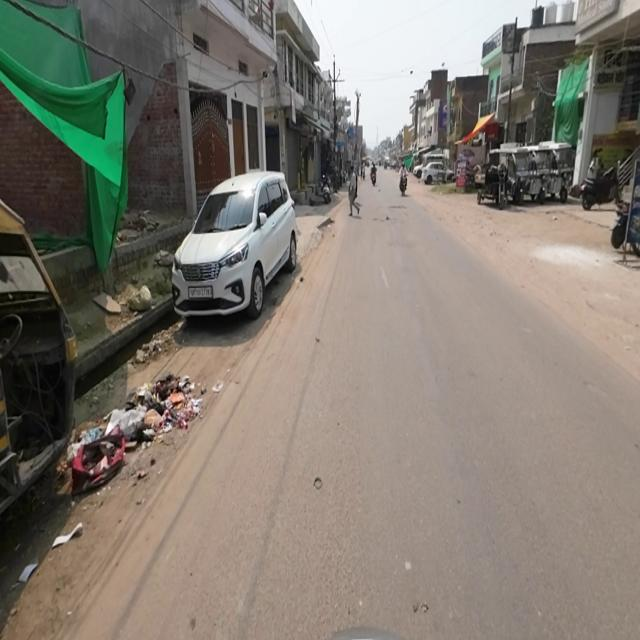Garbage: (76, 373, 195, 465)
